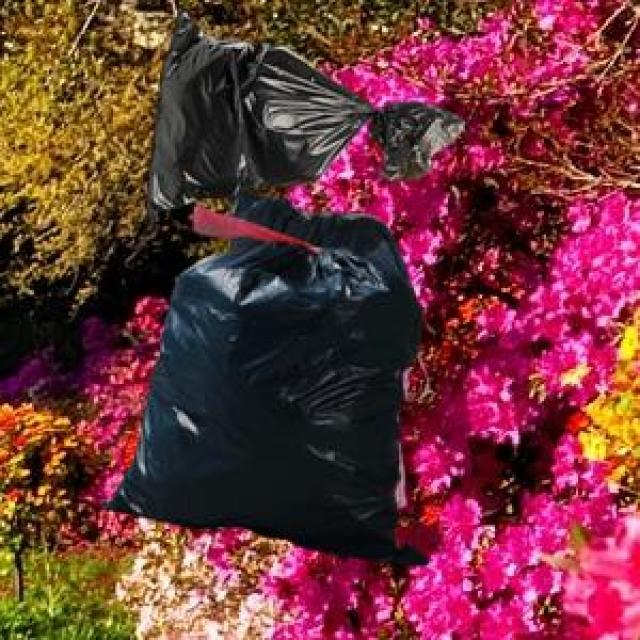Trashbag: (92, 234, 431, 570), (140, 7, 468, 212)
